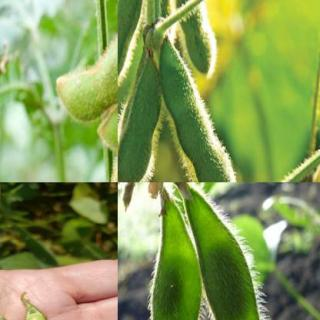soya: (159, 40, 237, 182), (183, 196, 273, 319), (55, 14, 117, 123), (147, 206, 200, 320), (118, 64, 160, 181), (172, 0, 218, 76), (118, 0, 150, 88)
